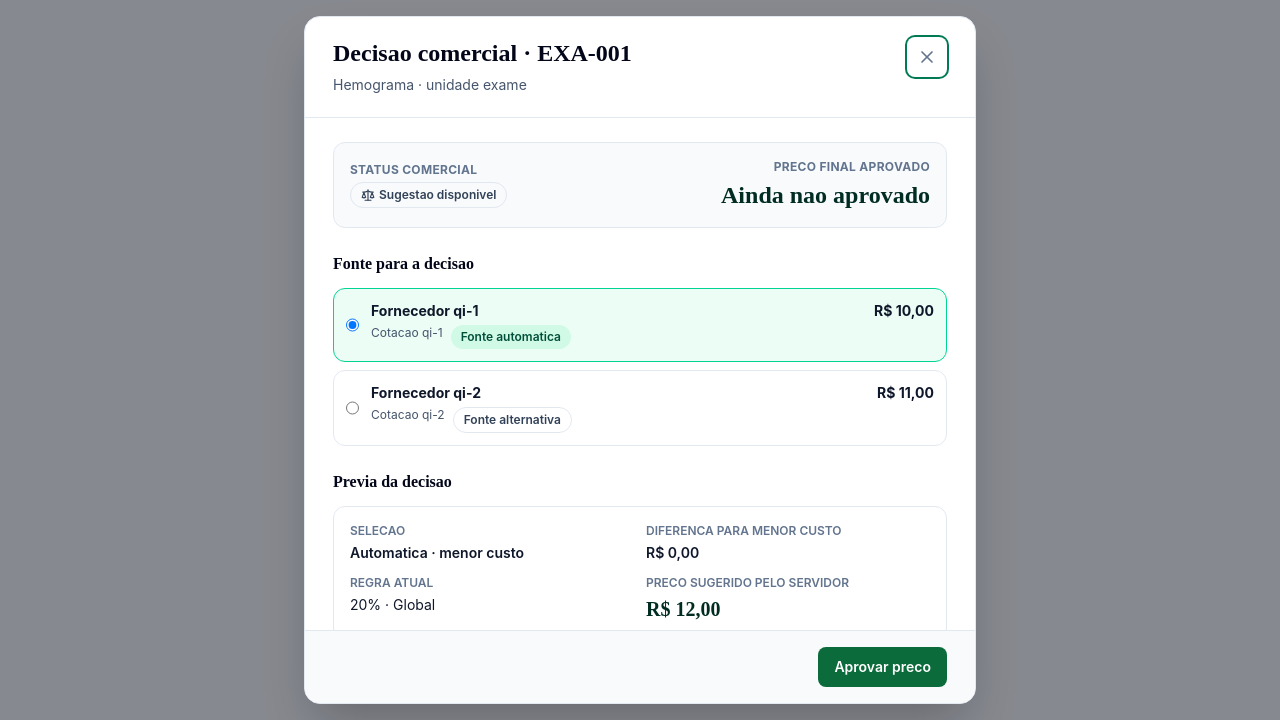
Test: ReviewDrawer › descarta uma selecao manual quando o drawer e fechado sem aprovar
Click the radio button labelled "Fornecedor qi-2 R$ 11,00 Cotacao qi-2 Fonte alternativa" at (352, 408), box [346,383,359,433]
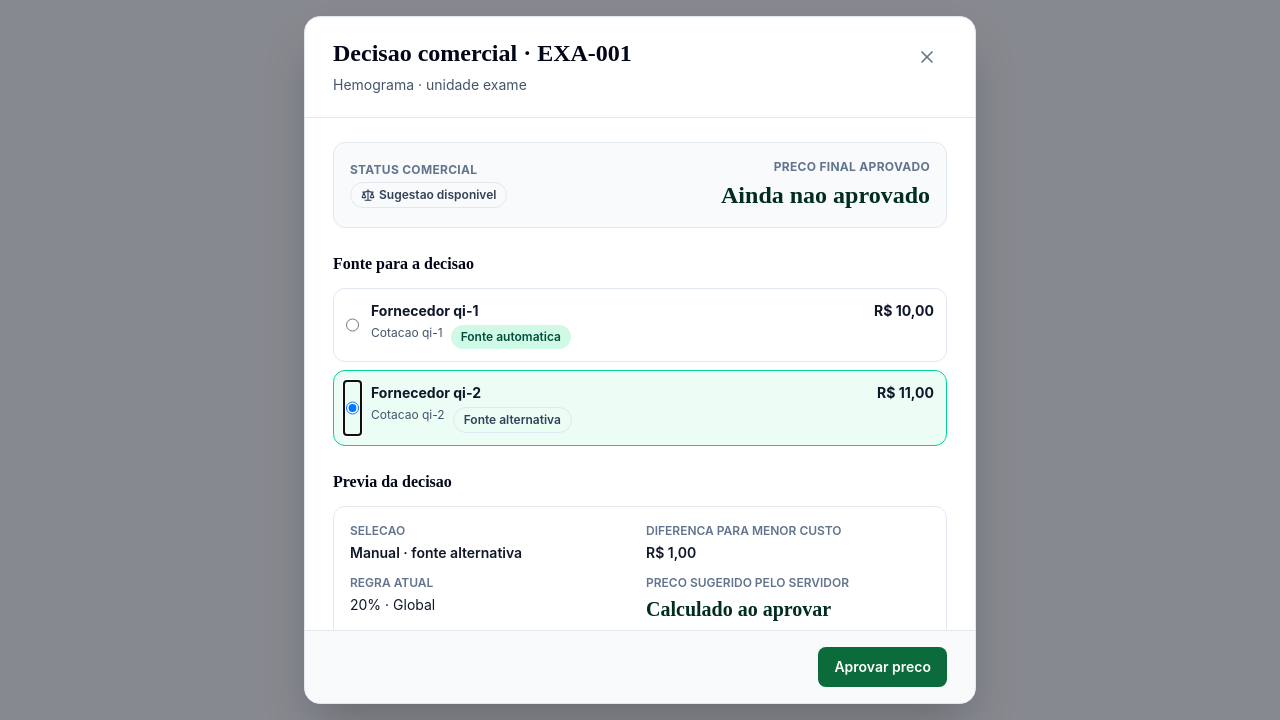
Result: the radio button labelled "Fornecedor qi-2 R$ 11,00 Cotacao qi-2 Fonte alternativa" is checked at [346,383,359,433]
Click the button named "Fechar painel" at (927, 57), box [907,37,947,77]
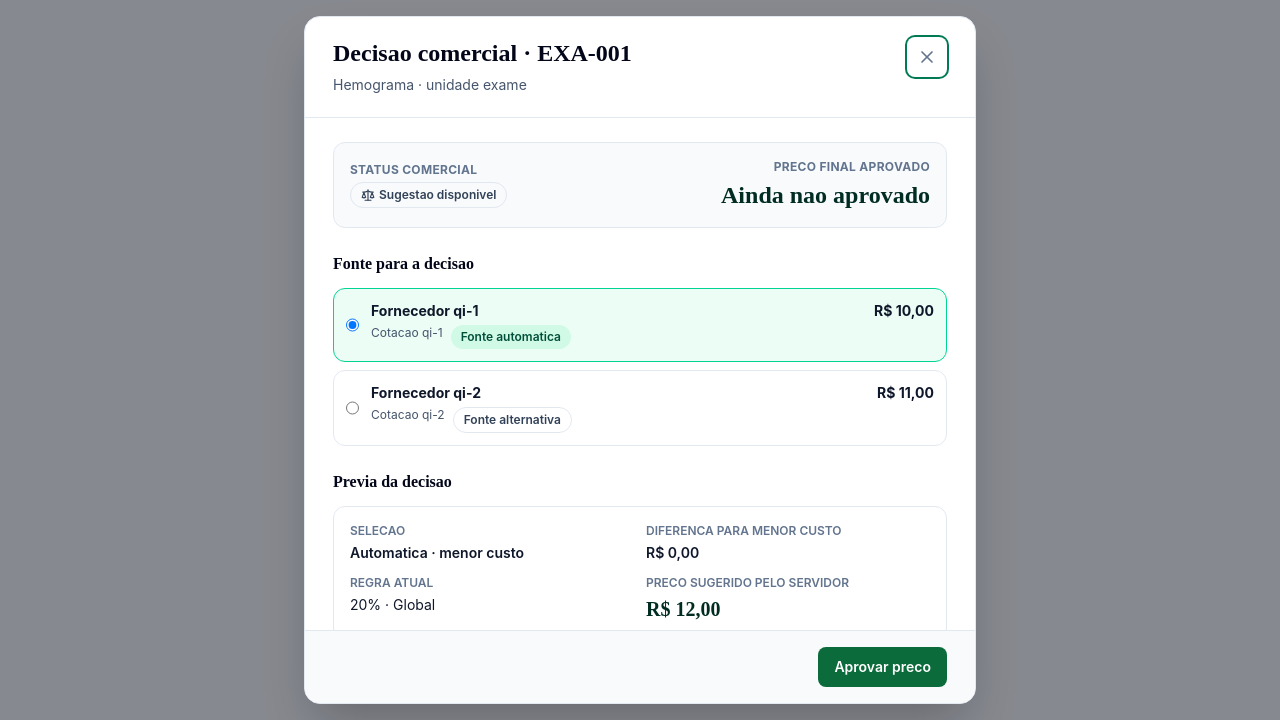
Result: the radio button labelled "Fornecedor qi-1 R$ 10,00 Cotacao qi-1 Fonte automatica" is checked at [346,301,359,349]
